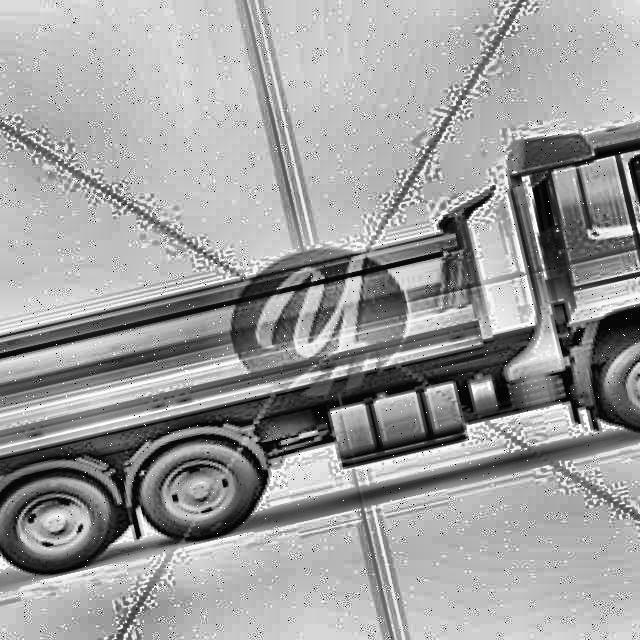dump_truck: (0, 50, 640, 636)
